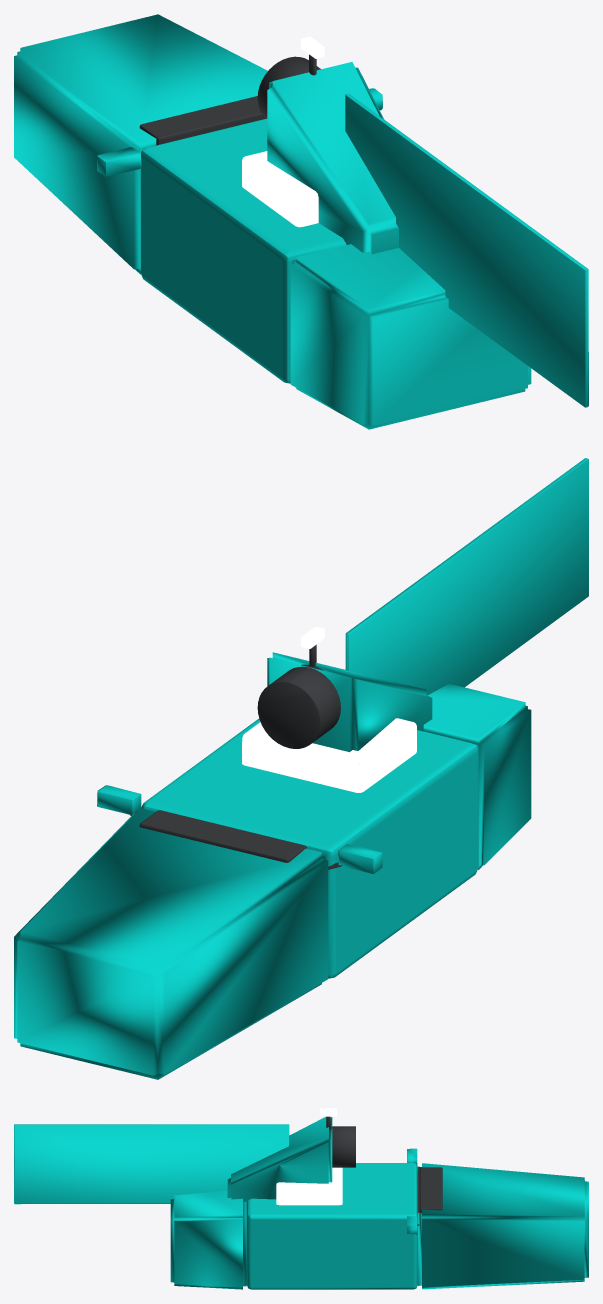
Rendered from f1_monocoque_t800.glb.
3 views of the same model, one above another, from view 1: azimuth 30°, elevation 25°; view 2: azimuth 150°, elevation 25°; view 3: azimuth 270°, elevation 25° (orthographic). The views are drawn at different scales.
Visible parts, largest first — view 1: F1_Monocoque_T800; view 2: F1_Monocoque_T800; view 3: F1_Monocoque_T800.
Part boxes in pixels (x1,y1,x2,y2): F1_Monocoque_T800: [14, 14, 588, 429]; F1_Monocoque_T800: [14, 458, 588, 1079]; F1_Monocoque_T800: [14, 1108, 588, 1289].
Size of the model in its own units: 0.9653 by 0.8974 by 3.02.
